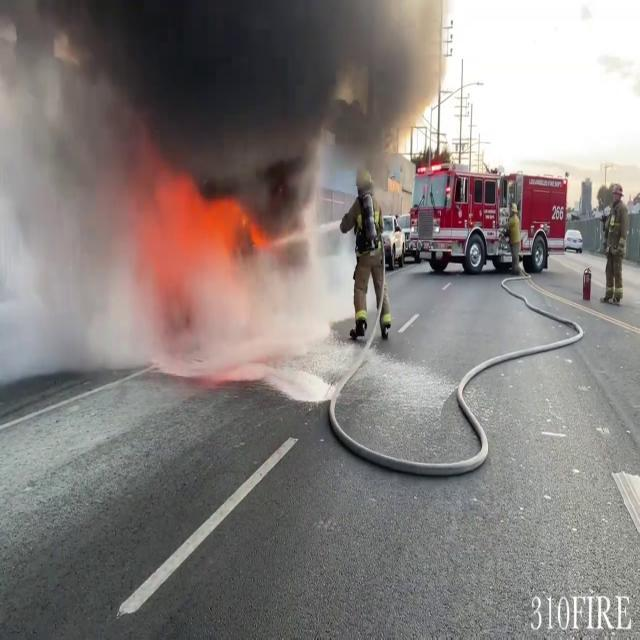Fire: (157, 161, 267, 274)
Smoke: (3, 0, 436, 372)
